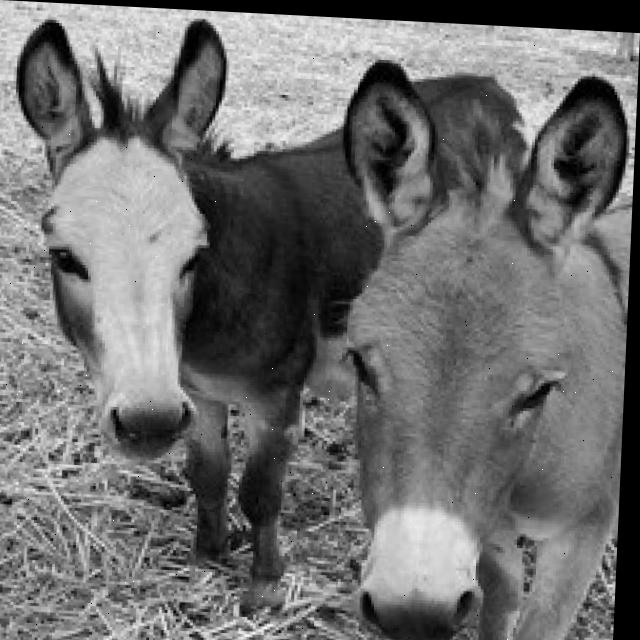Donkey: (0, 7, 537, 625), (317, 55, 636, 640)
